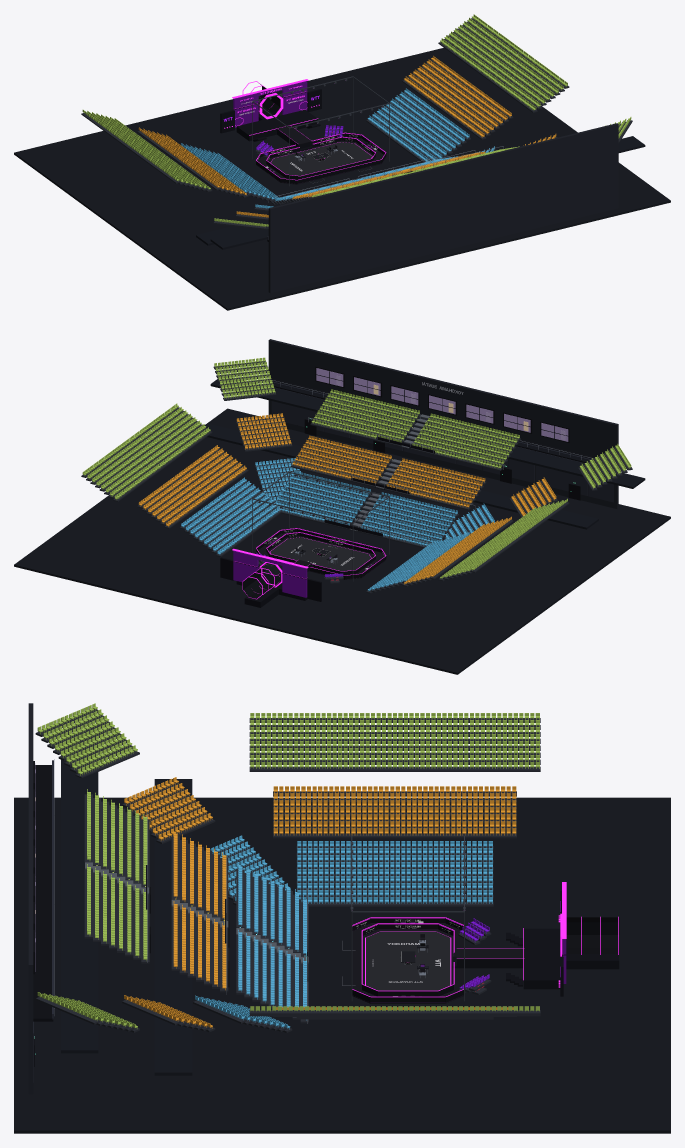
File: yokohama-buntai-wtt.glb
3 views of the same model, one above another, from view 1: azimuth 30°, elevation 25°; view 2: azimuth 150°, elevation 25°; view 3: azimuth 270°, elevation 25° (orthographic). The views are drawn at different scales.
Visible parts, largest first — view 1: Arena_floor, South_arena_wall, Cat3_East_seats, Cat1_East_seats, Cat2_East_seats, Cat3_East, Arena_Architecture, Court_Octagon_16x9m, North_Stage, Court_octagon_16x9m, Cat3_West_seats, Cat2_East (+9 smaller); view 2: Arena_floor, South_arena_wall, South_Wall_and_VIP_Concourse, Arena_Architecture, Cat3_East_seats, Cat1_East_seats, Cat2_East_seats, Cat3_South_East_seats, Cat3_South_West_seats, Cat1_South_West_seats, Cat1_South_East_seats, Cat2_South_East_seats (+32 smaller); view 3: Arena_floor, Arena_Architecture, Cat3_West_seats, Cat1_West_seats, Cat2_West_seats, Cat3_West, Cat2_West, Cat1_West, Court_octagon_16x9m, Upper_concourse, Cat3_SW_Corner_seats, Court_Octagon_16x9m (+31 smaller).
Part boxes in pixels (bbox=[...]): Arena_floor: bbox=[14, 48, 670, 310]; South_arena_wall: bbox=[268, 123, 618, 293]; Cat3_East_seats: bbox=[440, 14, 567, 110]; Cat1_East_seats: bbox=[367, 88, 469, 161]; Cat2_East_seats: bbox=[404, 56, 511, 137]; Cat3_East: bbox=[438, 18, 569, 112]; Arena_Architecture: bbox=[196, 136, 645, 249]; Court_Octagon_16x9m: bbox=[256, 132, 386, 183]; North_Stage: bbox=[220, 79, 321, 151]; Court_octagon_16x9m: bbox=[271, 142, 371, 175]; Cat3_West_seats: bbox=[82, 109, 210, 189]; Cat2_East: bbox=[402, 59, 513, 139]; Arena_floor: bbox=[14, 408, 670, 674]; South_arena_wall: bbox=[268, 339, 618, 508]; South_Wall_and_VIP_Concourse: bbox=[271, 366, 613, 502]; Arena_Architecture: bbox=[205, 377, 645, 545]; Cat3_East_seats: bbox=[82, 403, 210, 499]; Cat1_East_seats: bbox=[181, 477, 279, 554]; Cat2_East_seats: bbox=[138, 445, 246, 526]; Cat3_South_East_seats: bbox=[311, 389, 419, 442]; Cat3_South_West_seats: bbox=[412, 413, 519, 468]; Cat1_South_West_seats: bbox=[360, 492, 457, 546]; Cat1_South_East_seats: bbox=[275, 471, 370, 525]; Cat2_South_East_seats: bbox=[292, 435, 391, 483]; Arena_floor: bbox=[14, 797, 670, 1133]; Arena_Architecture: bbox=[61, 733, 308, 1075]; Cat3_West_seats: bbox=[250, 713, 539, 768]; Cat1_West_seats: bbox=[297, 841, 492, 903]; Cat2_West_seats: bbox=[273, 786, 516, 835]; Cat3_West: bbox=[249, 718, 540, 771]; Cat2_West: bbox=[273, 791, 516, 838]; Cat1_West: bbox=[296, 846, 493, 906]; Court_octagon_16x9m: bbox=[366, 931, 450, 990]; Upper_concourse: bbox=[33, 765, 53, 1021]; Cat3_SW_Corner_seats: bbox=[37, 703, 137, 775]; Court_Octagon_16x9m: bbox=[342, 917, 463, 1002].
Size of the model in its own units: 84 by 15.64 by 70.
